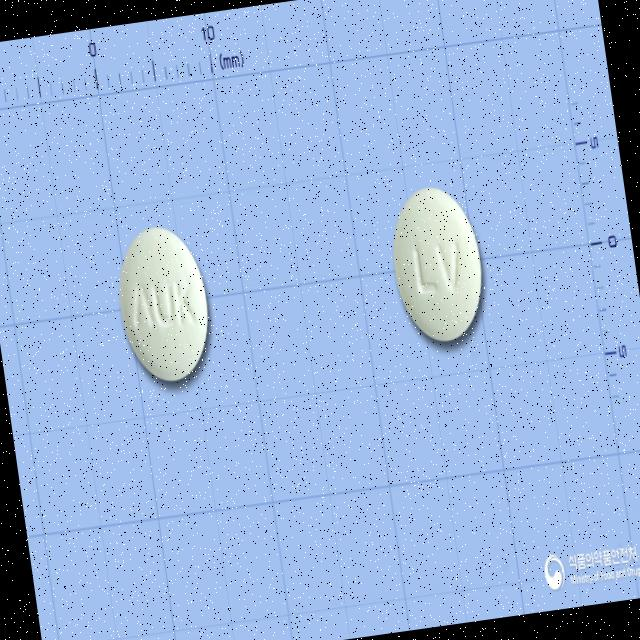Levox: (110, 220, 218, 386), (384, 181, 492, 346)
